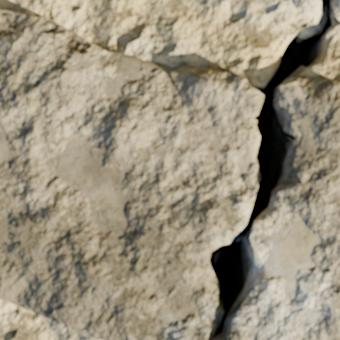broken_brick: (0, 8, 339, 339), (293, 0, 319, 20), (333, 0, 339, 18)
crack: (207, 0, 339, 337)
